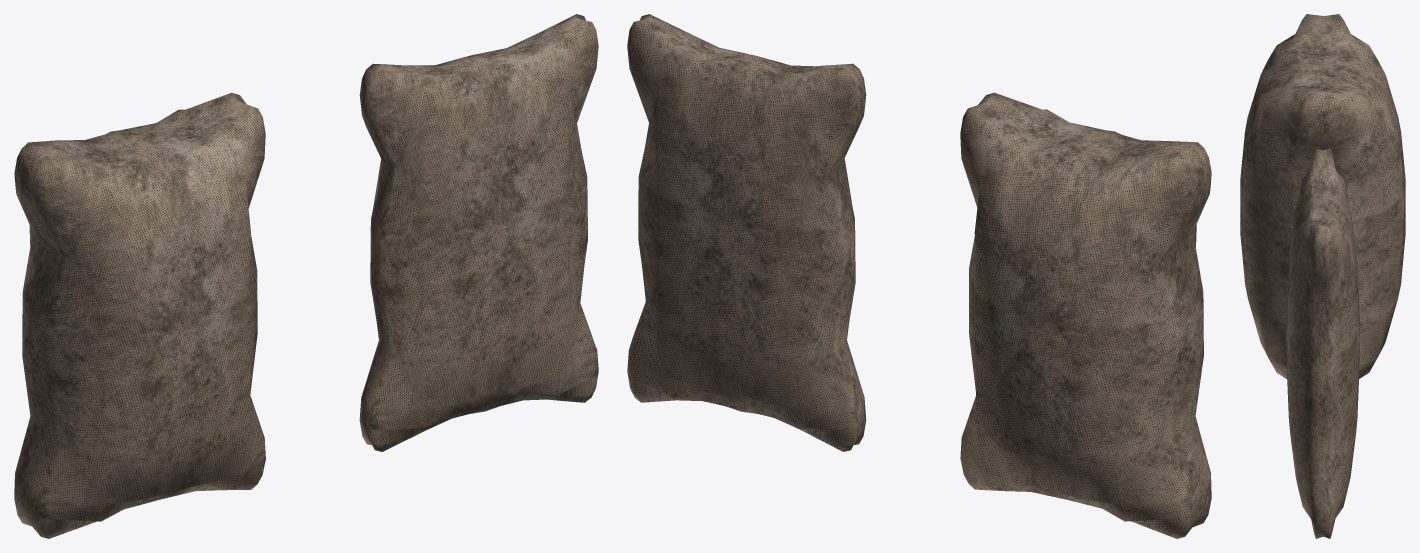
Rendered from SackTX.fbx.
The picture shows the model from 3 angles, left to right: view 1: azimuth 30°, elevation 25°; view 2: azimuth 150°, elevation 25°; view 3: azimuth 270°, elevation 25°; orthographic projection. The views are drawn at different scales.
Visible parts, largest first — view 1: SackBig, SackSamll; view 2: SackBig, SackSamll; view 3: SackBig, SackSamll.
Boxes of the visible parts, x1,y1,x2,y2 form: SackBig: (14, 92, 265, 538); SackSamll: (359, 14, 598, 451); SackBig: (960, 92, 1211, 538); SackSamll: (627, 14, 866, 451); SackBig: (1240, 14, 1405, 378); SackSamll: (1286, 148, 1359, 538).
Size of the model in its own units: 1069 by 682 by 330.
Materials: 2 (2 with a texture image).
